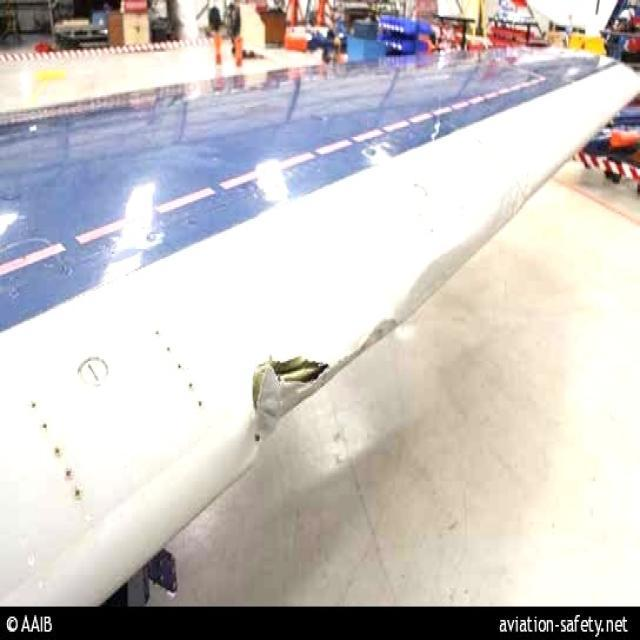crack: (252, 357, 332, 452)
dent: (400, 234, 493, 329), (362, 319, 405, 352)
